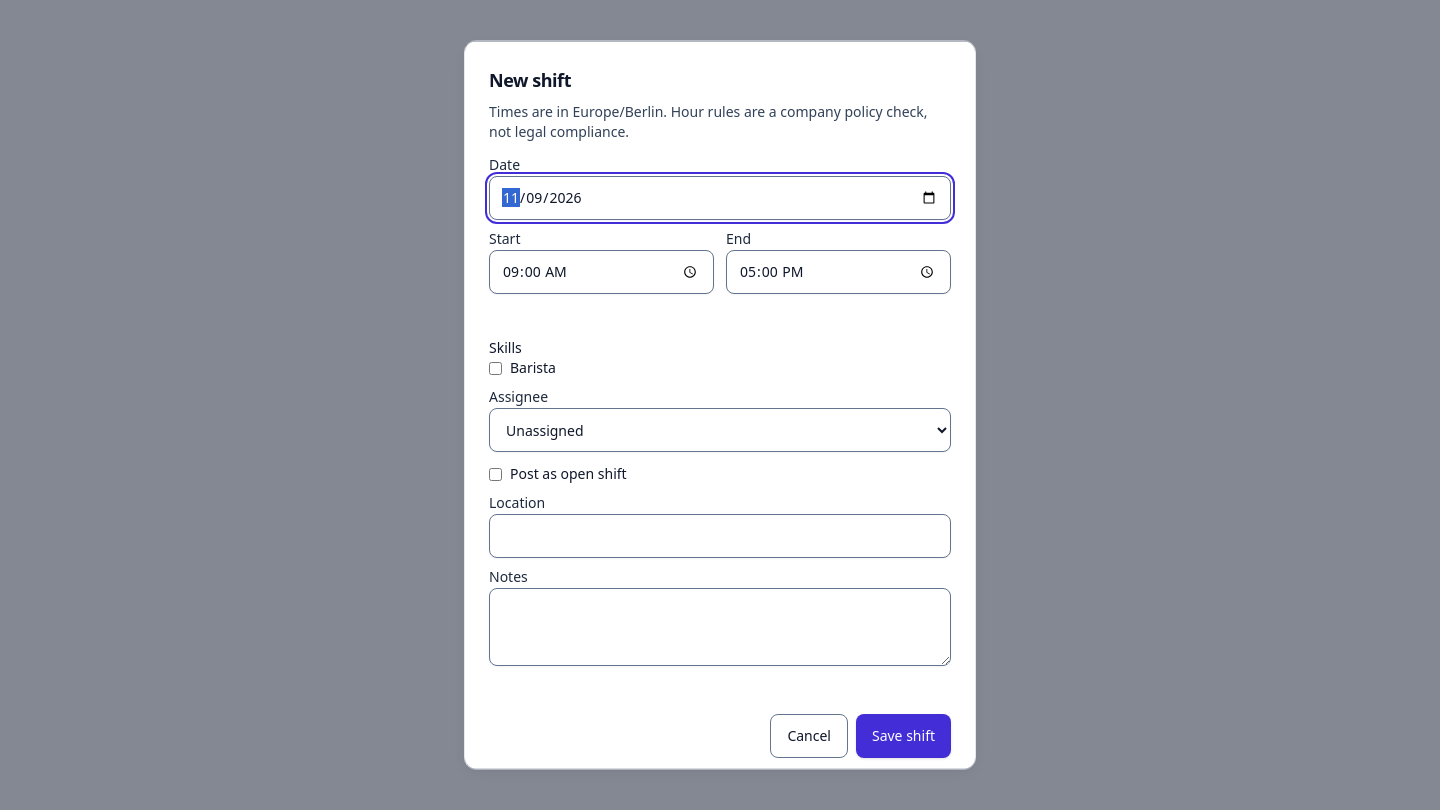
Test: ShiftDialog › shows the API validation message, e.g. the 16-hour limit
Replace the text in the time field labelled "Start" with "06:00" at (602, 272), box [489, 250, 714, 294]
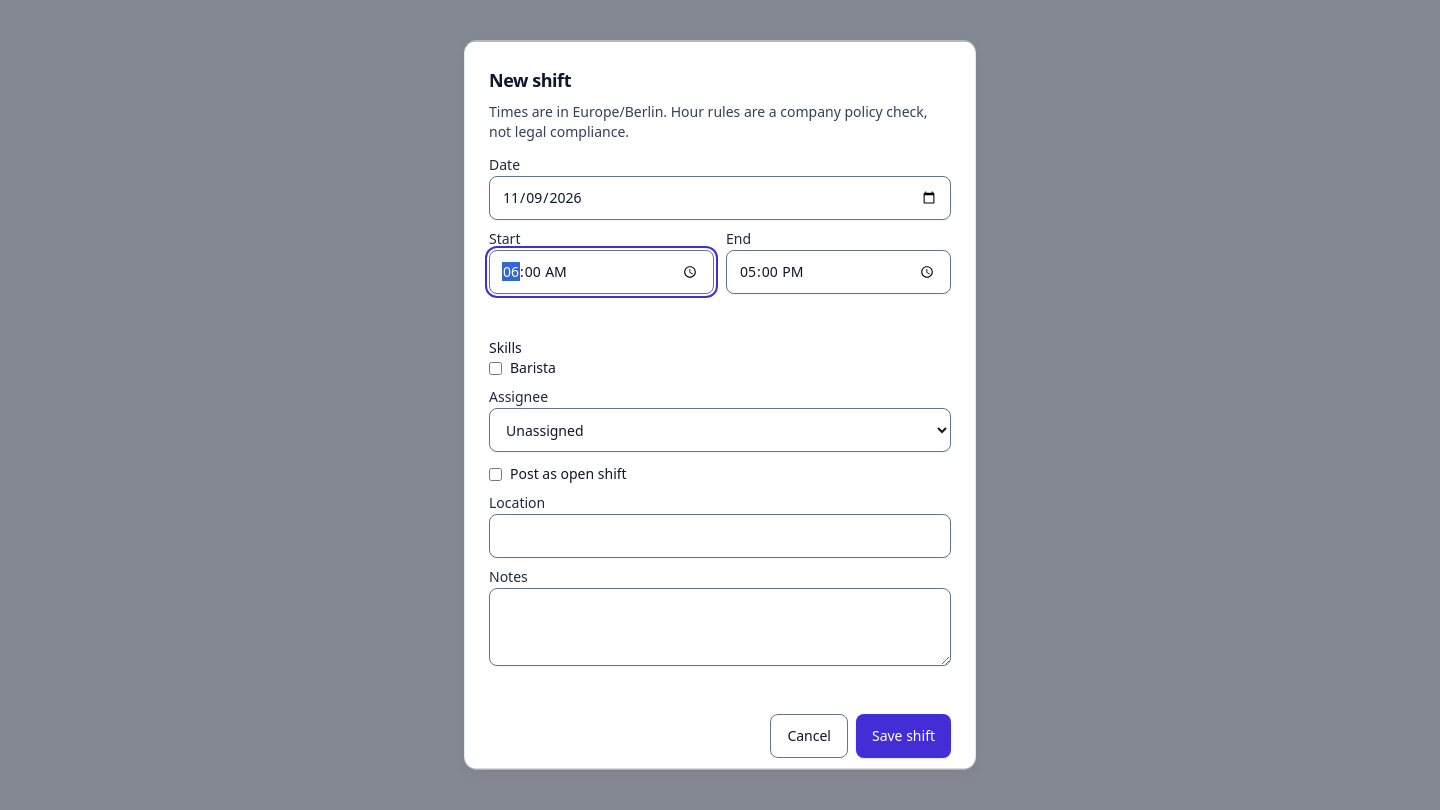
Replace the text in the time field labelled "End" with "23:00" at (838, 272), box [726, 250, 951, 294]
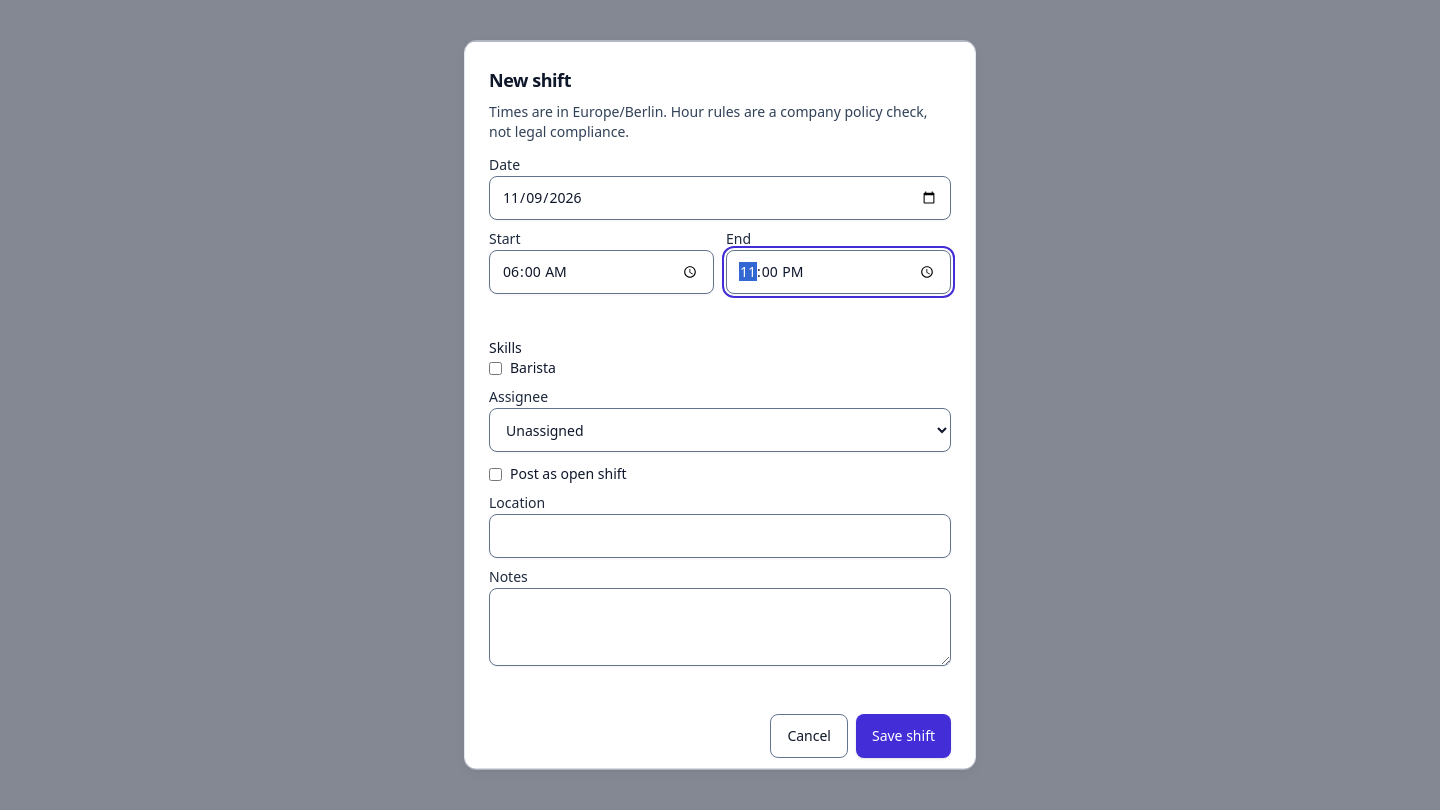
Click the button "Save shift".
click(904, 736)  # box [856, 714, 951, 758]
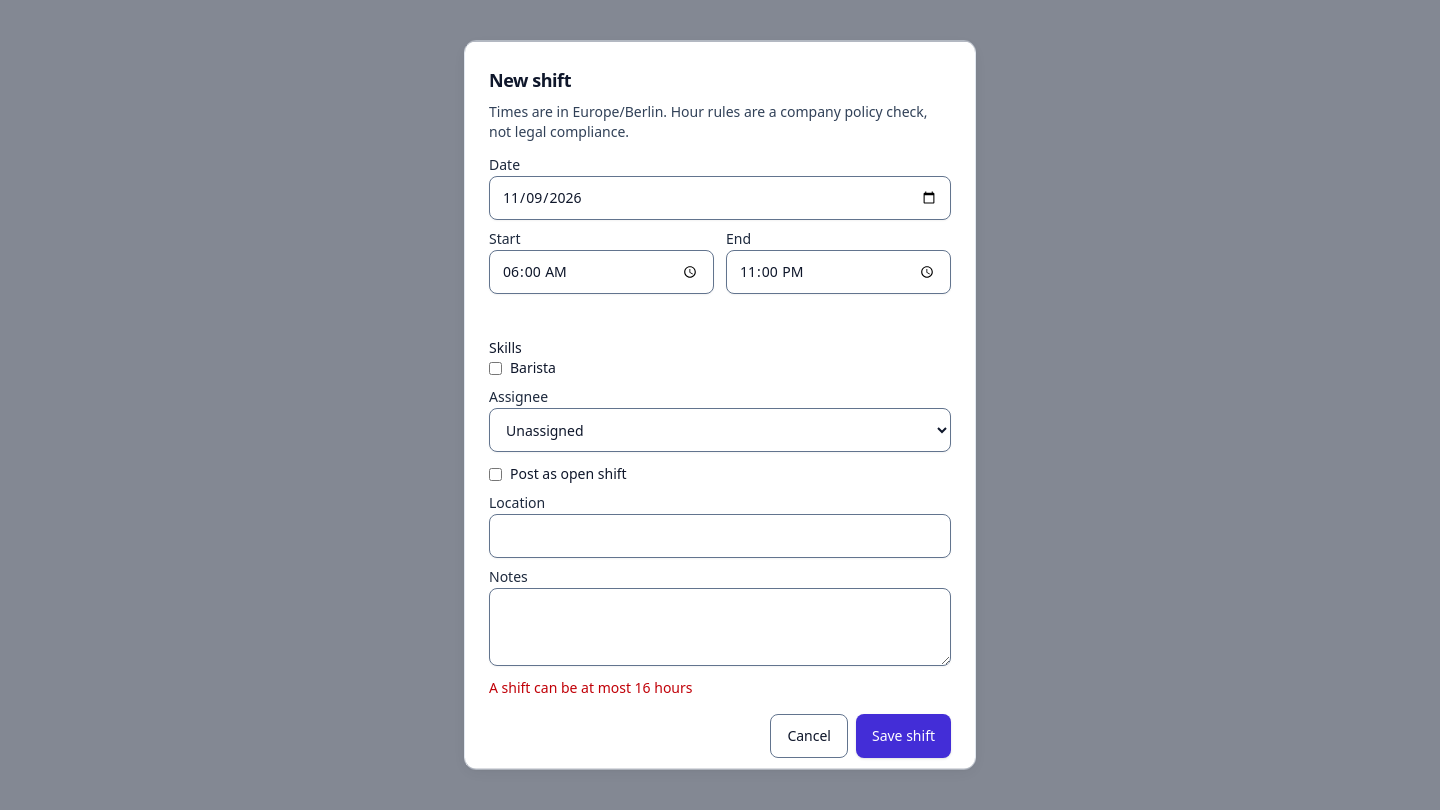
Expected: the message reads "A shift can be at most 16 hours", [489, 678, 692, 696]
